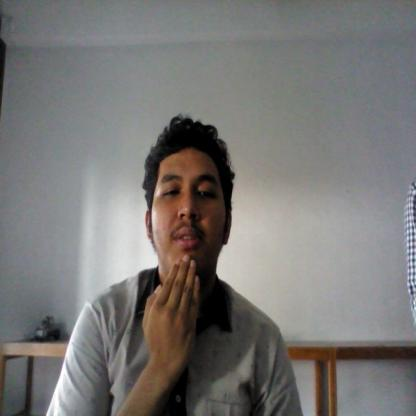Selamat-Terimakasih: (141, 254, 203, 392)
